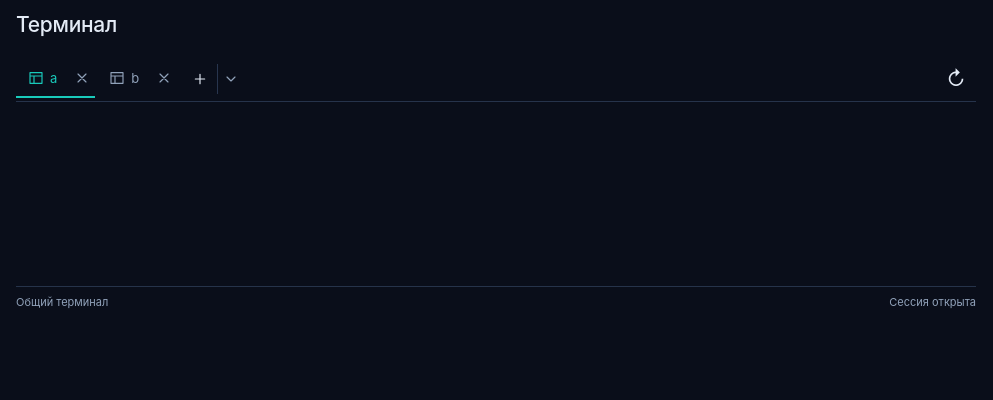
Test case: keeps a real close failure visible and ends loading: partial
What coordinates should you click on to do the following:
click the button named "Закрыть терминал a"
I would click on:
 (82, 78)
Its box is top-left (69, 60), bottom-right (95, 96).
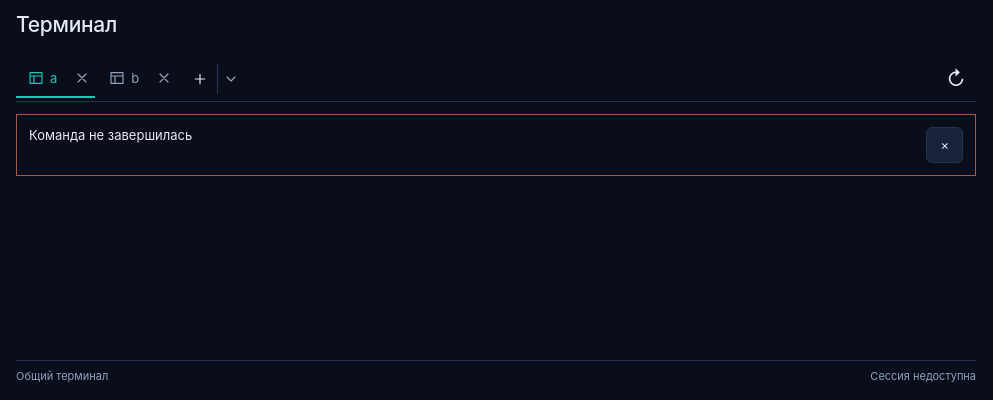
Expected: the tab named "a — Общий терминал" is shown, top-left (16, 60), bottom-right (69, 96)
Expected: the message "Команда не завершилась ×" is shown, top-left (16, 114), bottom-right (976, 176)
